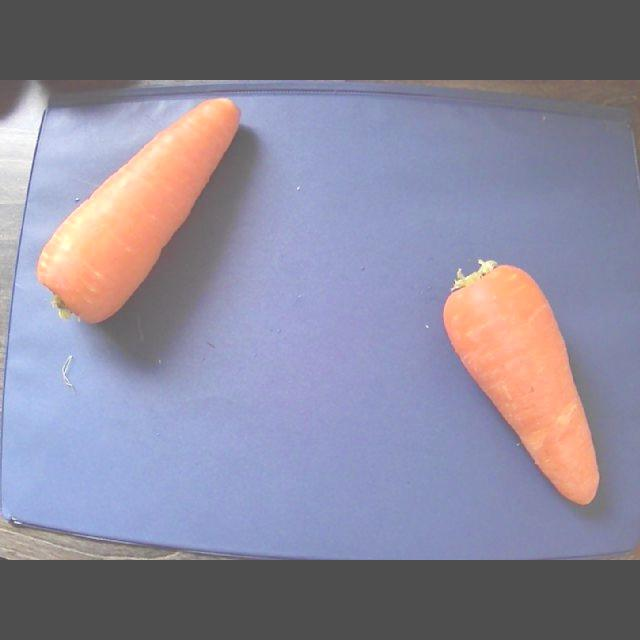zanahoria: (37, 98, 240, 323), (444, 260, 599, 504)
